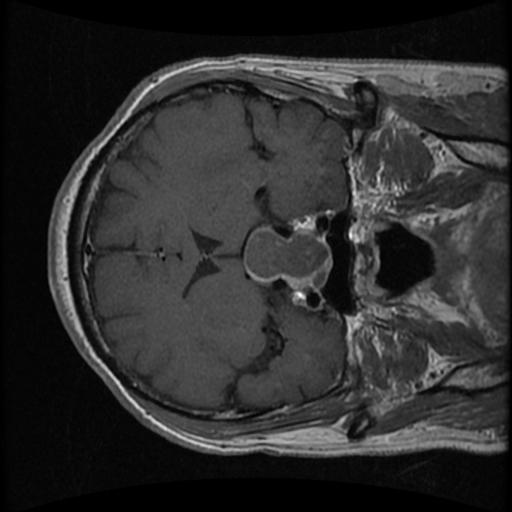pituitary tumour: (242, 218, 334, 290)
